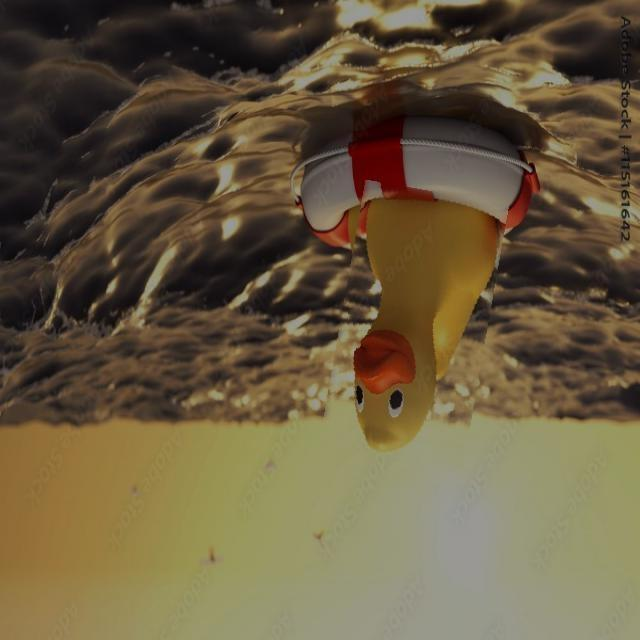rubber-duck: (342, 197, 499, 448)
